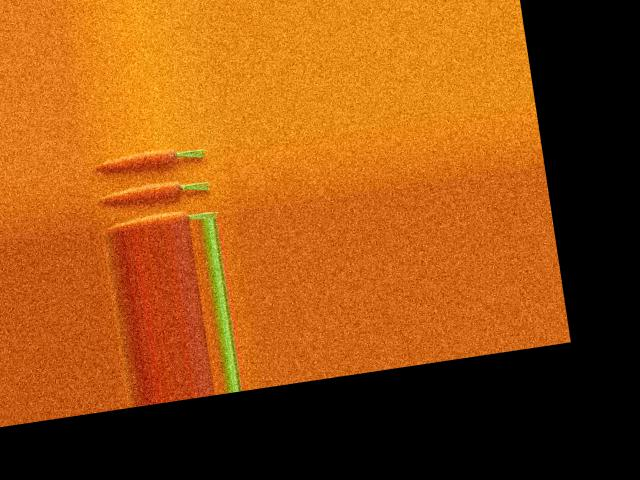carrot: (115, 204, 220, 230)
